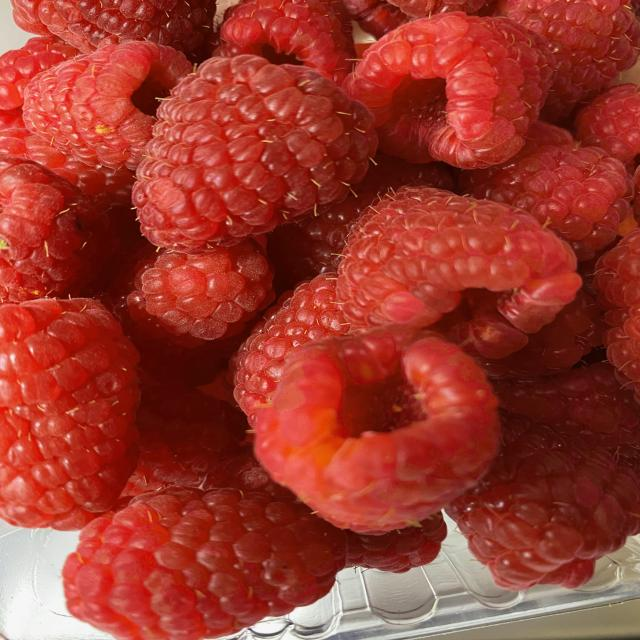raspberries: (28, 12, 629, 622)
